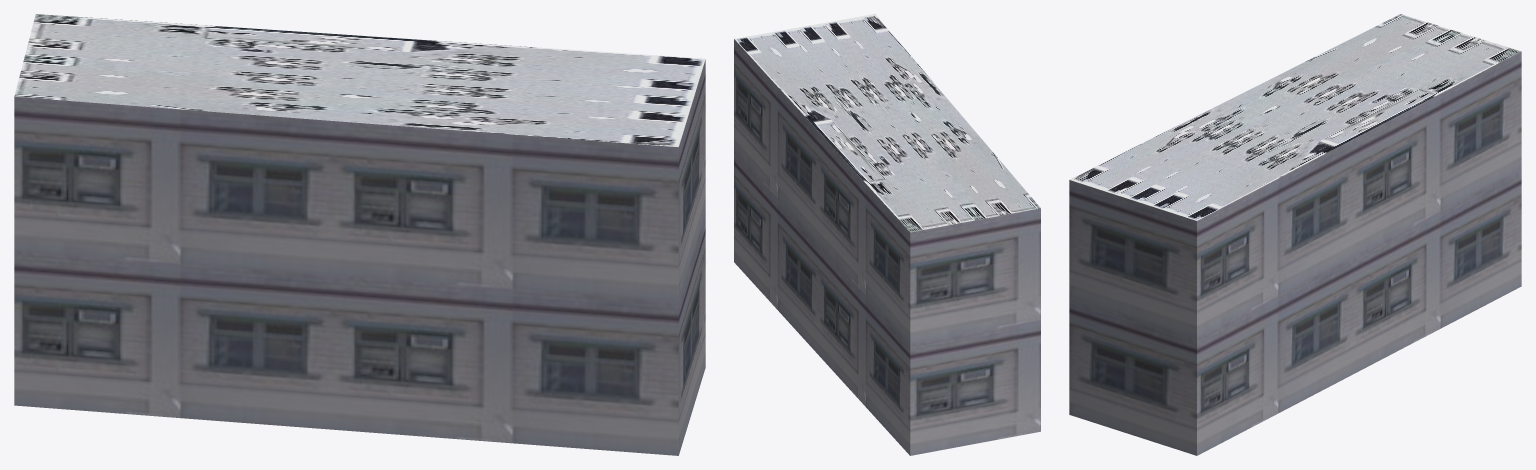
The model's file is ResTex__2104.fbx.
3 views of the same model, side by side, from view 1: azimuth 30°, elevation 25°; view 2: azimuth 150°, elevation 25°; view 3: azimuth 270°, elevation 25° (orthographic). The views are drawn at different scales.
Visible parts, largest first — view 1: CityEngineMaterial_1_m, CityEngineMaterial_m; view 2: CityEngineMaterial_1_m, CityEngineMaterial_m; view 3: CityEngineMaterial_1_m, CityEngineMaterial_m.
Boxes of the visible parts, x1,y1,x2,y2 form: CityEngineMaterial_1_m: (14,59,705,455); CityEngineMaterial_m: (14,14,705,147); CityEngineMaterial_1_m: (734,39,1040,455); CityEngineMaterial_m: (734,14,1040,232); CityEngineMaterial_1_m: (1069,51,1521,455); CityEngineMaterial_m: (1069,14,1521,220).
Bounding box in the file's own units: 11.34 × 6 × 10.47.
Materials: 2 (2 with a texture image).
